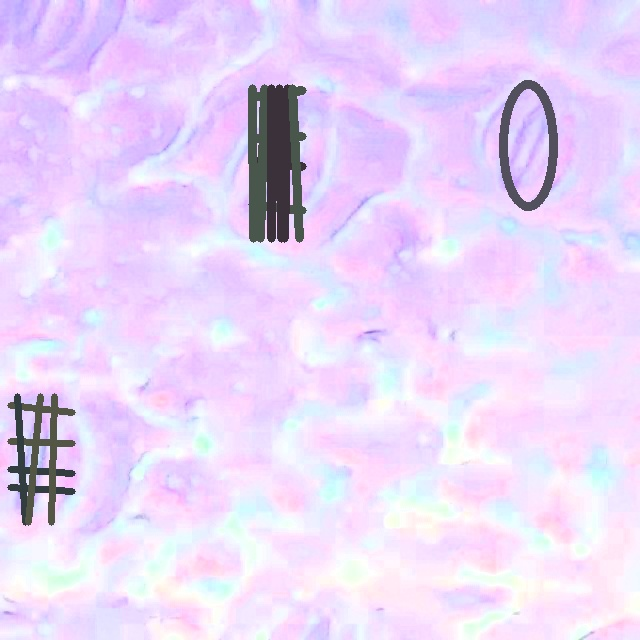open: (249, 84, 305, 242), (8, 394, 75, 525), (498, 79, 558, 211)
